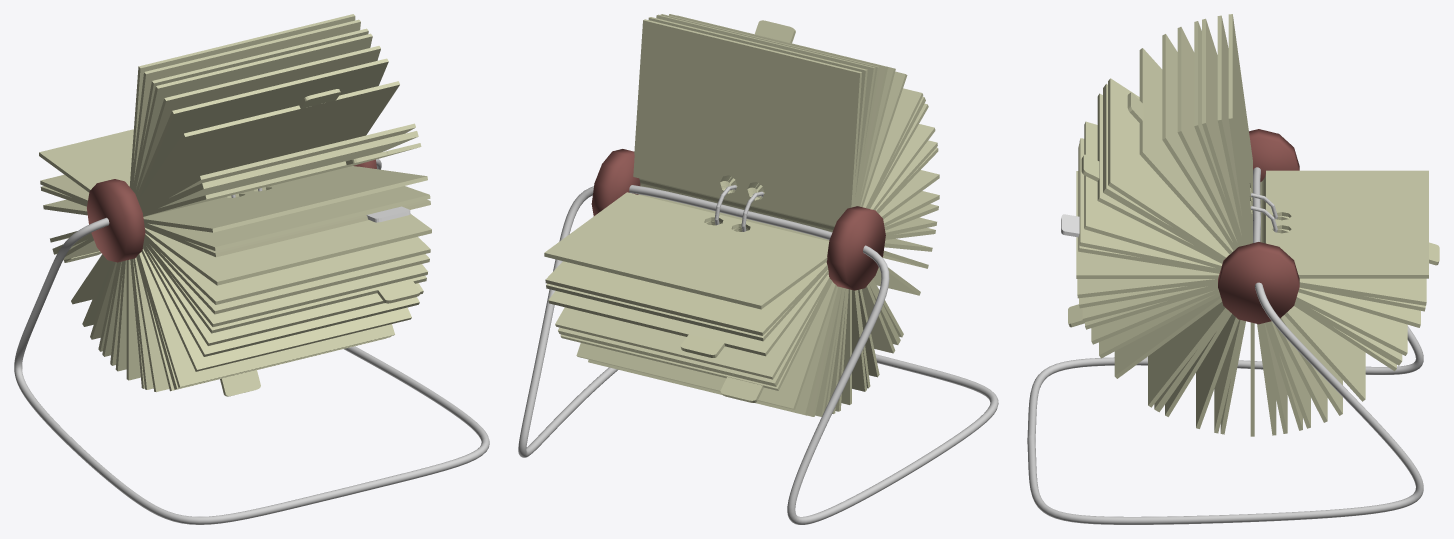
File: rolodex.fbx
3 renders of one model, left to right at view 1: azimuth 30°, elevation 25°; view 2: azimuth 150°, elevation 25°; view 3: azimuth 270°, elevation 25°, orthographic.
Visible parts, largest first — view 1: indexcards, NurbsPath, endcap, indexcards.001, Plane.004, Plane; view 2: indexcards, indexcards.001, NurbsPath, endcap, Plane.006, Plane.005, Plane.003; view 3: indexcards, NurbsPath, endcap, indexcards.001.
Boxes of the visible parts, x1,y1,x2,y2 form: indexcards: (39,19,431,391); NurbsPath: (14,159,489,524); endcap: (87,159,376,262); indexcards.001: (129,14,355,188); Plane.004: (220,370,260,396); Plane: (377,280,420,303); indexcards: (544,14,939,416); indexcards.001: (633,19,861,225); NurbsPath: (518,185,998,524); endcap: (591,149,885,290); Plane.006: (720,377,763,402); Plane.005: (680,334,724,357); Plane.003: (755,20,795,43); indexcards: (1076,15,1428,436); NurbsPath: (1027,167,1423,524); endcap: (1218,129,1299,324); indexcards.001: (1228,14,1252,244).
Bounding box in the file's own units: 473 × 513 × 506.
